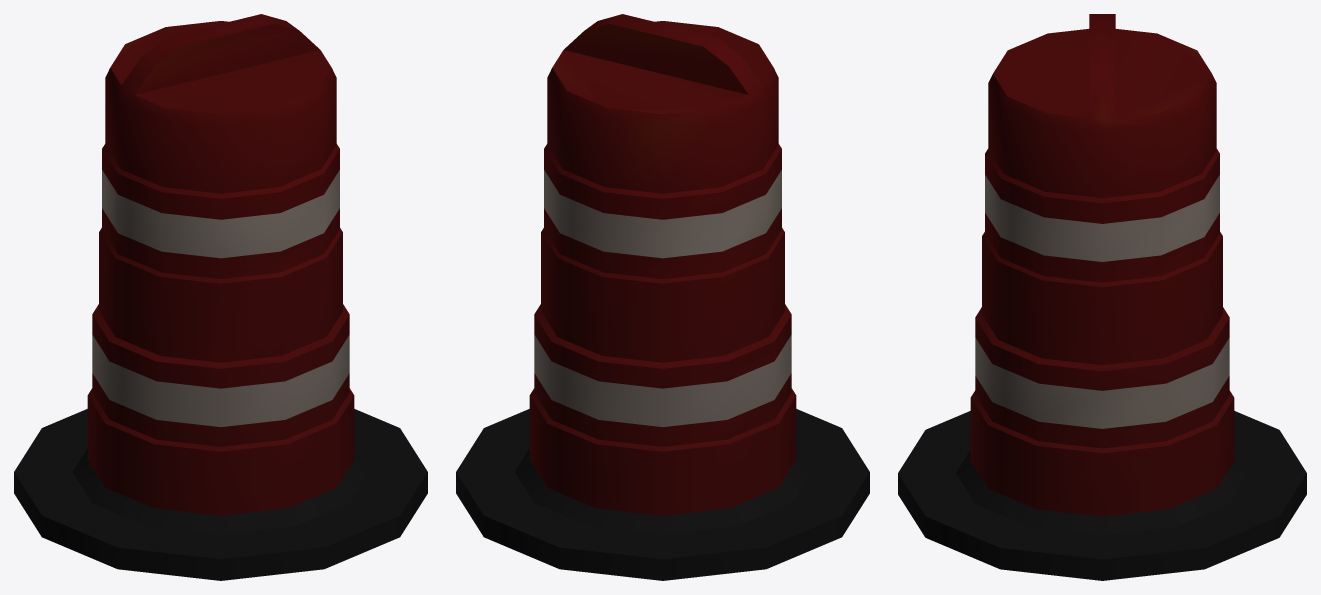
File: TrafficCone_2.glb
The picture shows the model from 3 angles, left to right: view 1: azimuth 30°, elevation 25°; view 2: azimuth 150°, elevation 25°; view 3: azimuth 270°, elevation 25°; orthographic projection.
Visible parts, largest first — view 1: TrafficCone_2; view 2: TrafficCone_2; view 3: TrafficCone_2.
Boxes of the visible parts, x1,y1,x2,y2 form: TrafficCone_2: (14, 14, 427, 580); TrafficCone_2: (456, 14, 869, 580); TrafficCone_2: (898, 14, 1306, 580).
Size of the model in its own units: 0.5954 by 0.7356 by 0.5954.
